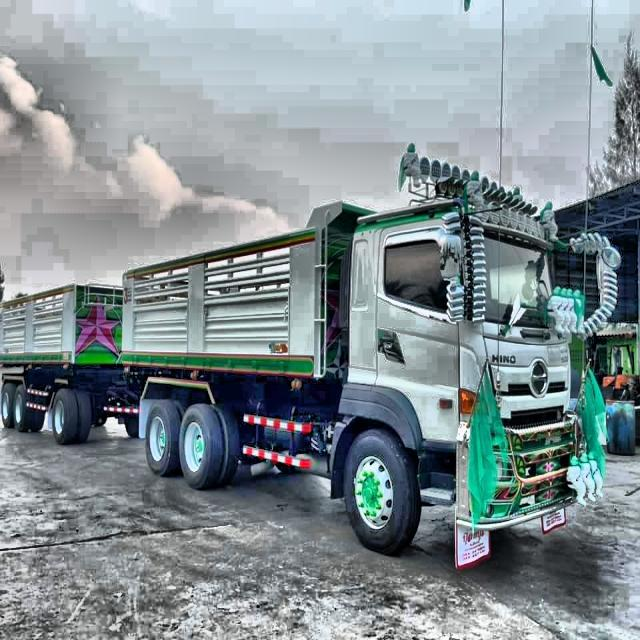trailer: (0, 139, 594, 576)
